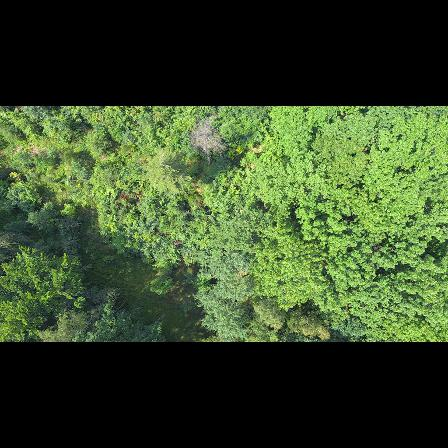Dead: (188, 116, 228, 160)
